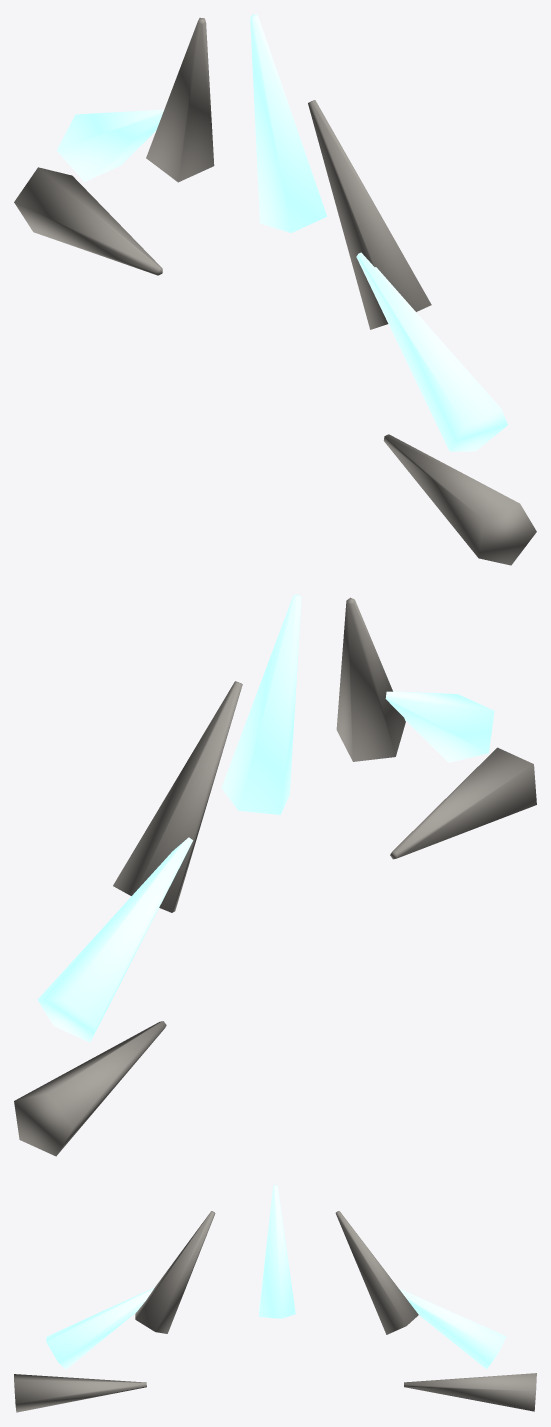
Rendered from SM_Back_ArchonHalo.fbx.
3 renders of one model, top to bottom at view 1: azimuth 30°, elevation 25°; view 2: azimuth 150°, elevation 25°; view 3: azimuth 270°, elevation 25°, orthographic. The views are drawn at different scales.
Parts seen in each view (by area): view 1: Cone; view 2: Cone; view 3: Cone.
Boxes of the visible parts, <box> form: Cone: <box>14,14,536,565</box>; Cone: <box>14,594,536,1156</box>; Cone: <box>14,1185,536,1412</box>.
Bounding box in the file's own units: 1.66 × 0.1643 × 0.7712.
